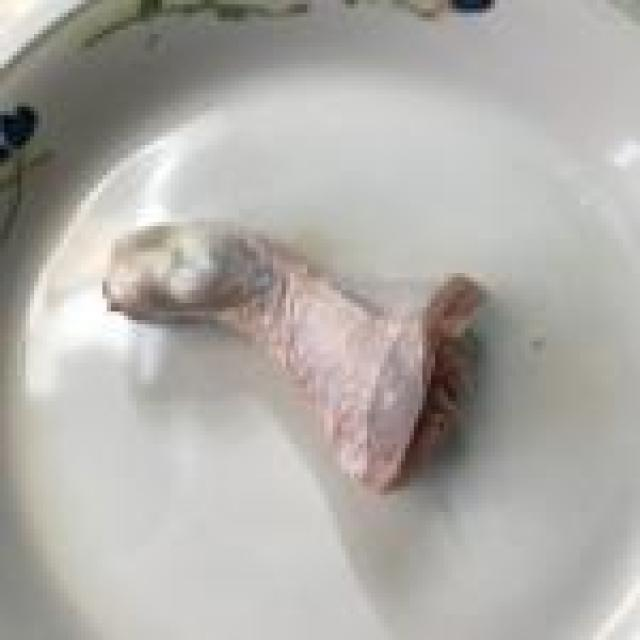leg: (87, 194, 478, 500)
